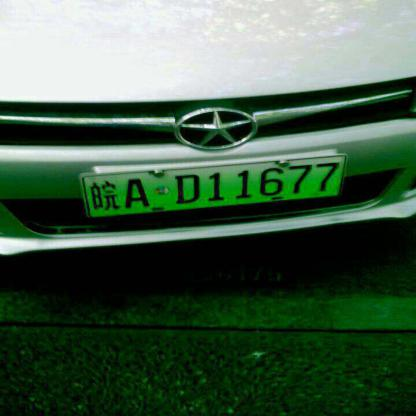lp: (85, 156, 346, 218)
